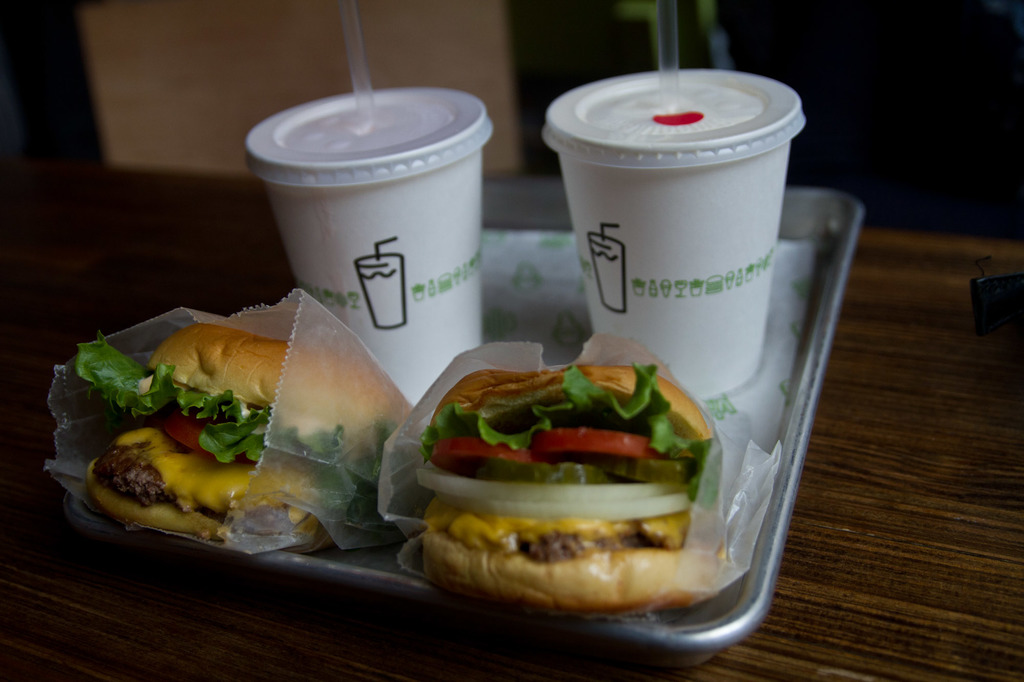Hamburger: (412, 361, 720, 617), (72, 321, 393, 542)
